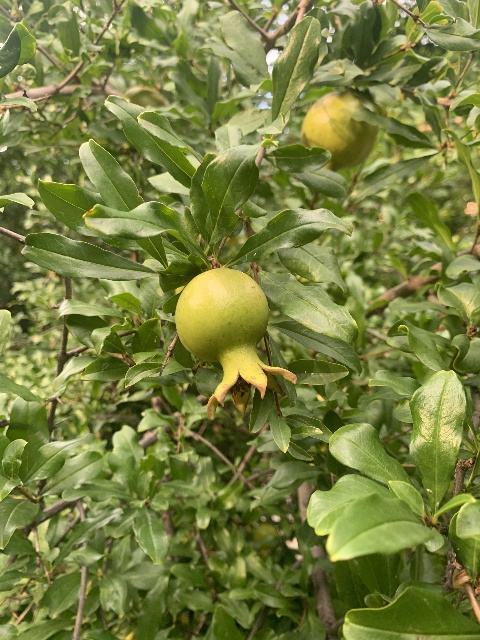mid-growth: (173, 266, 297, 419), (300, 92, 377, 171)
